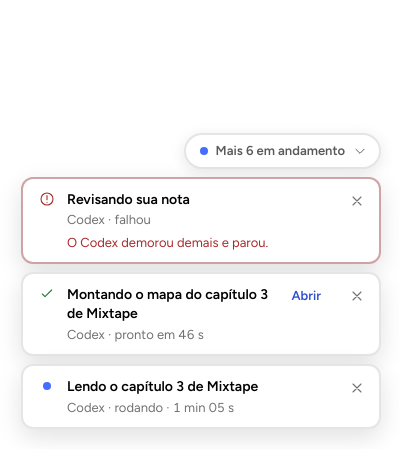
Test: pilha de avisos do Codex › agrupador expande e Esc o recolhe; Esc num aviso o dispensa
Click the button "Mais 6 em andamento": coordinates (282, 151) [184,133,381,169]
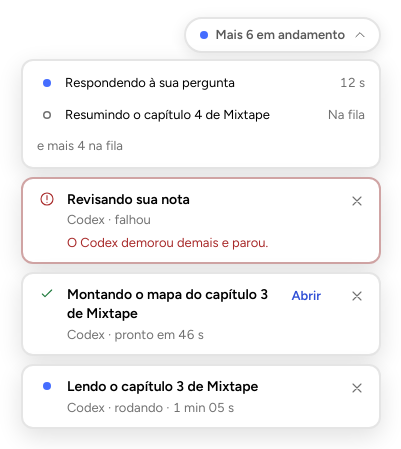
Now the button "Mais 6 em andamento" is expanded, box [184,17,381,53]
Now the text "Respondendo à sua pergunta" is shown
Now the list item "e mais 4 na fila" is shown, box [37,138,123,153]
Press Escape in the text "Respondendo à sua pergunta", box [65,75,235,90]
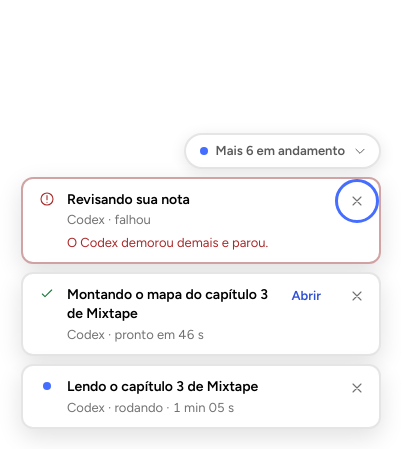
Now the button "Mais 6 em andamento" is collapsed, box [184,133,381,169]
Press Escape in the button named "Dispensar aviso: Revisando sua nota", box [341,185,373,217]
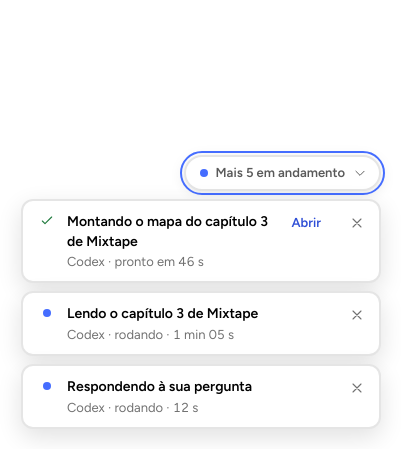
Expected: the element named "Execuções do Codex" is shown, [21,155,381,429]
Now the text "Revisando sua nota" is gone
